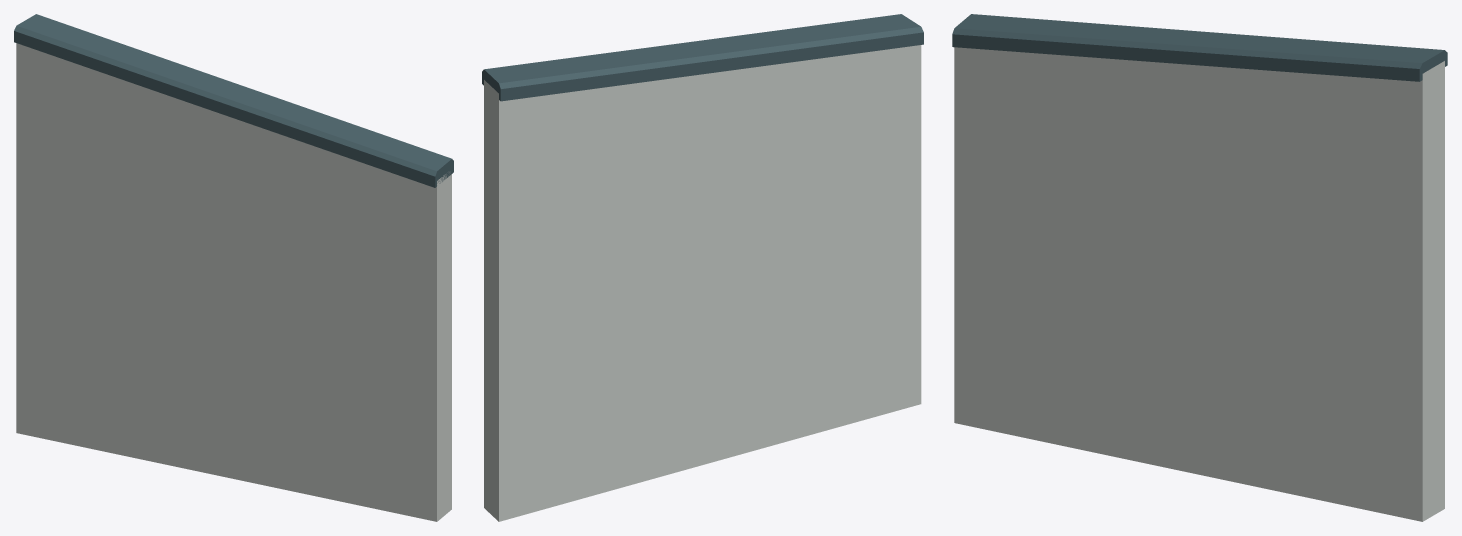
Rendered from halfwall_26_port_rise_2_miter_8944_-4472_8219_-5924.glb.
3 renders of one model, left to right at view 1: azimuth 90°, elevation 25°; view 2: azimuth 150°, elevation 25°; view 3: azimuth 270°, elevation 25°, orthographic. The views are drawn at different scales.
Parts seen in each view (by area): view 1: Seamless solid halfwall.082, Seamless top cap.082; view 2: Seamless solid halfwall.082, Seamless top cap.082; view 3: Seamless solid halfwall.082, Seamless top cap.082.
Part boxes in pixels (box(x1,y1,x2,y2)): Seamless solid halfwall.082: box(16, 43, 451, 521); Seamless top cap.082: box(14, 14, 453, 187); Seamless solid halfwall.082: box(484, 45, 921, 521); Seamless top cap.082: box(482, 14, 923, 101); Seamless solid halfwall.082: box(954, 47, 1444, 521); Seamless top cap.082: box(952, 14, 1447, 81).
Bounding box in the file's own units: 0.5858 × 1.08 × 1.05.
